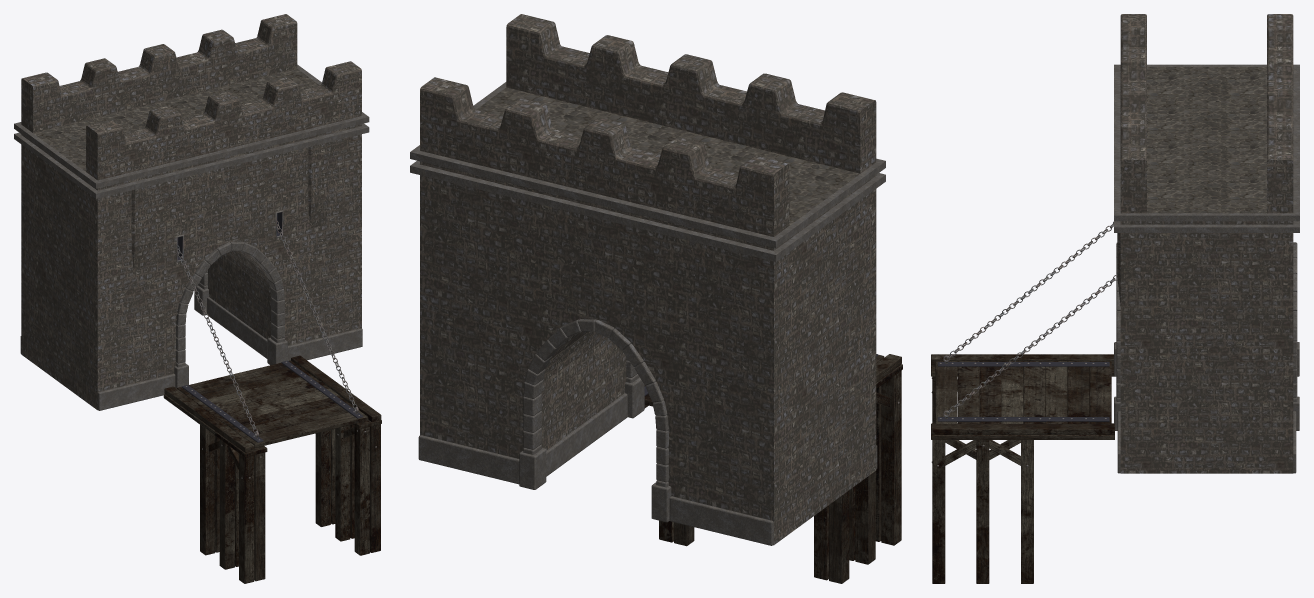
File: CastleGate 1.fbx
3 renders of one model, left to right at view 1: azimuth 30°, elevation 25°; view 2: azimuth 150°, elevation 25°; view 3: azimuth 270°, elevation 25°, orthographic. The views are drawn at different scales.
Visible parts, largest first — view 1: CastleGate; view 2: CastleGate; view 3: CastleGate.
Boxes of the visible parts, x1=… form: CastleGate: x1=14, y1=14, x2=381, y2=583; CastleGate: x1=410, y1=14, x2=902, y2=583; CastleGate: x1=931, y1=14, x2=1299, y2=583.
Bounding box in the file's own units: 930 × 1320 × 960.
